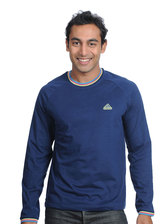clothoes: (19, 70, 156, 220)
